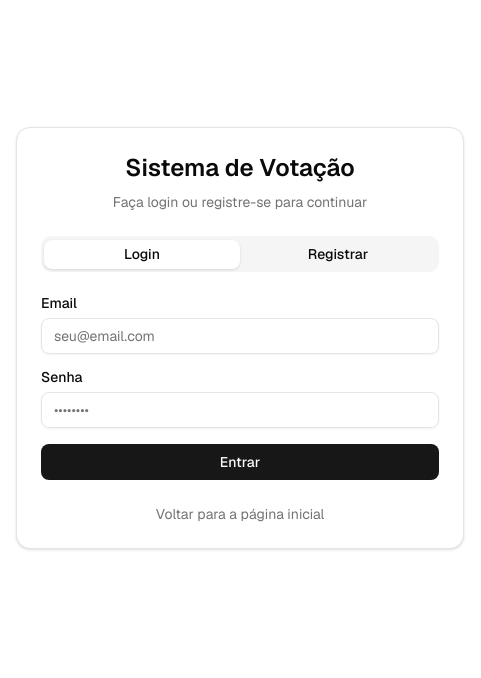
Scenario: Authentication Flow › Register › switches to register tab
Click the tab "Registrar" at (338, 254), box [240, 240, 436, 268]
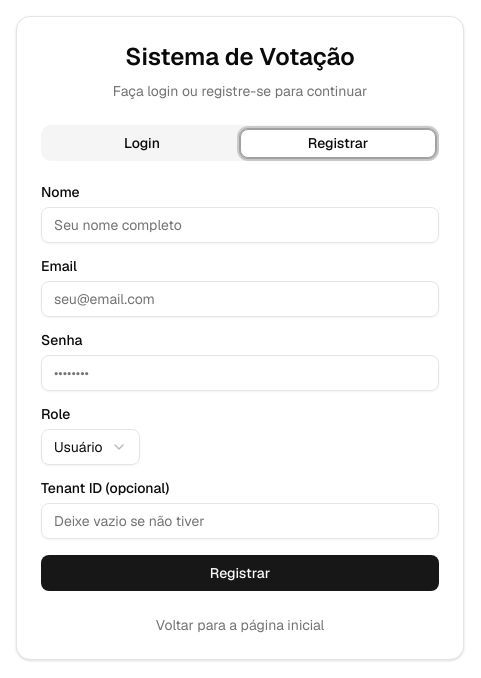
Result: the field labelled "Nome" is shown at [41, 207, 439, 243]
Result: the field labelled "Email" is shown at [41, 281, 439, 317]
Result: the password field labelled "Senha" is shown at [41, 355, 439, 391]
